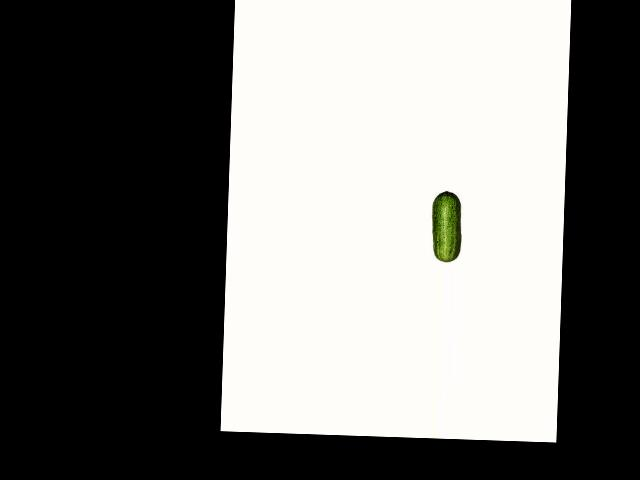cucumber: (431, 190, 462, 262)
